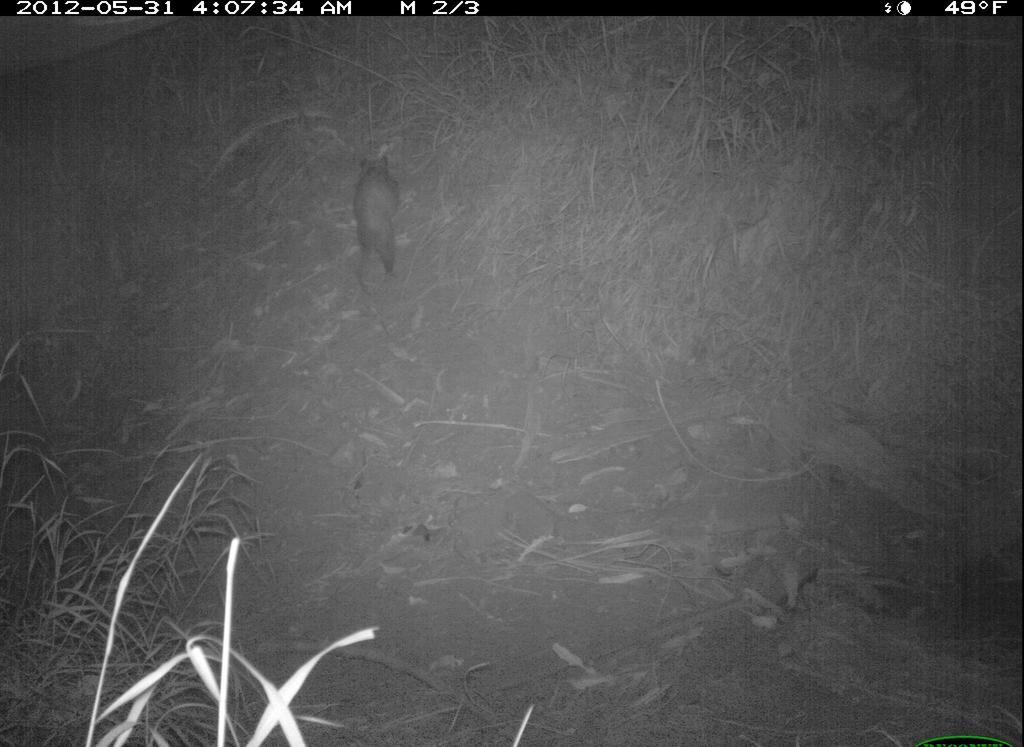opossum: (337, 137, 427, 290)
